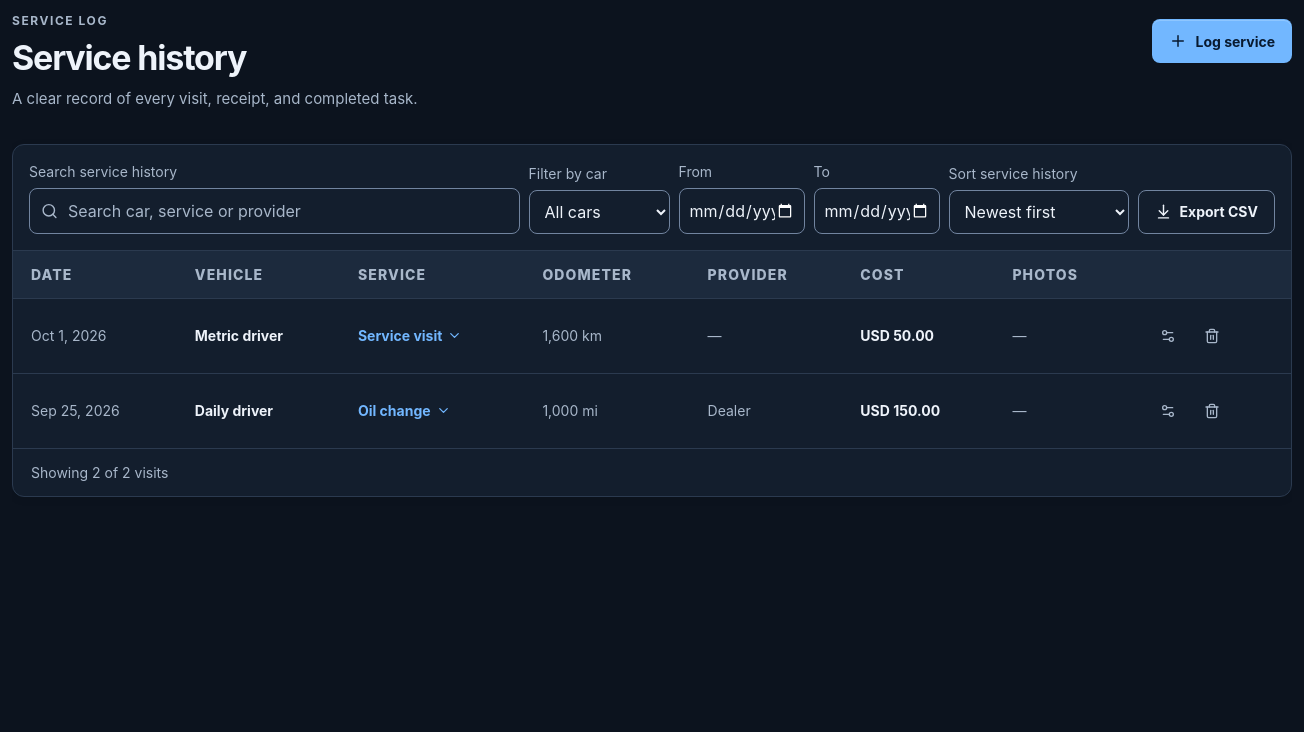
Scenario: uses the same filters for cards, table, counts, and CSV export
Select "Daily driver" in the dropdown labelled "Filter by car" at [599, 212], box [529, 190, 670, 234]
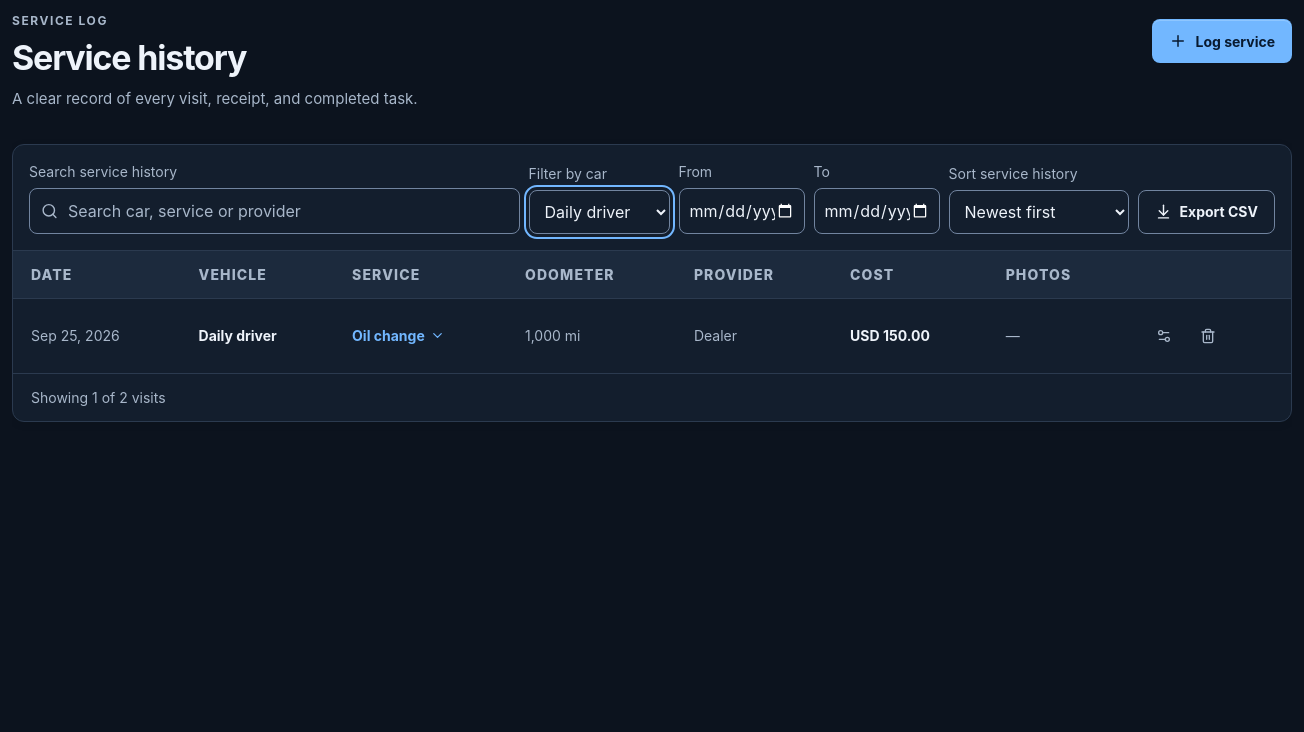
Type "2026-09-01" into the date field labelled "From" at [742, 210], box [679, 188, 805, 234]
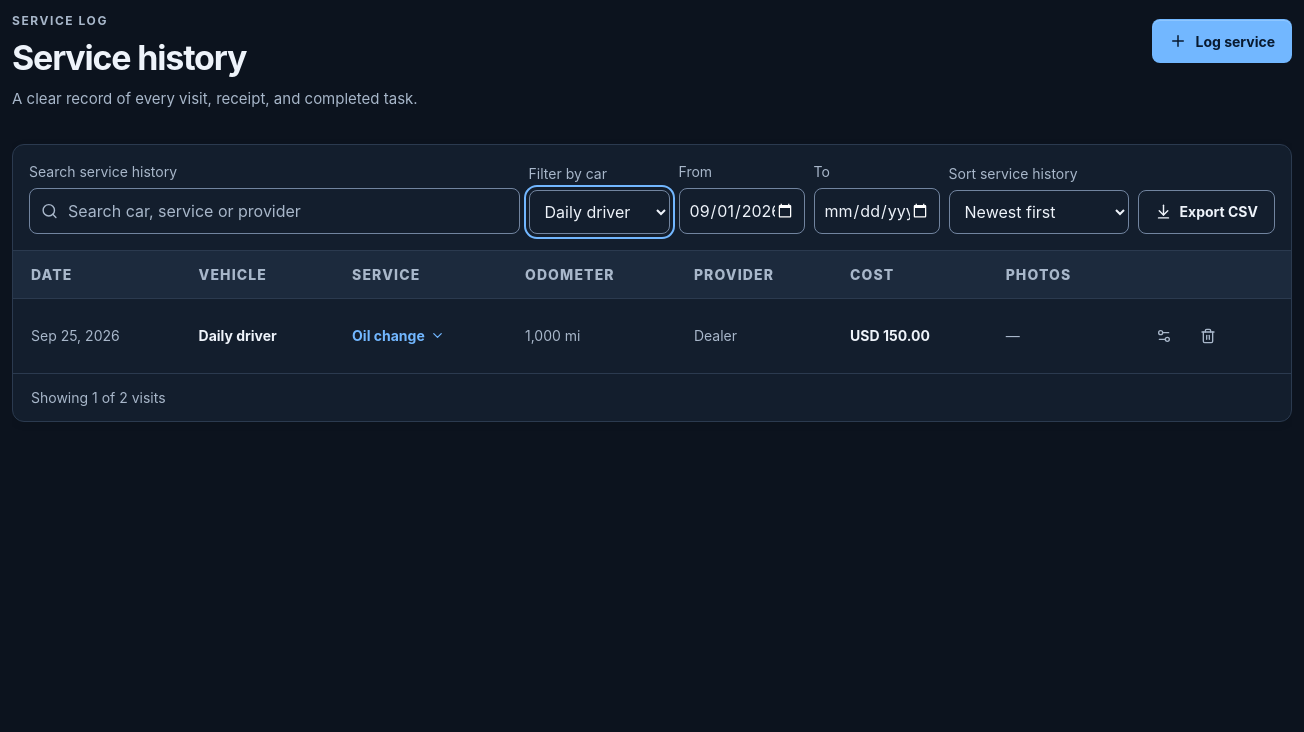
Type "2026-09-30" into the date field labelled "To" at [877, 210], box [814, 188, 940, 234]
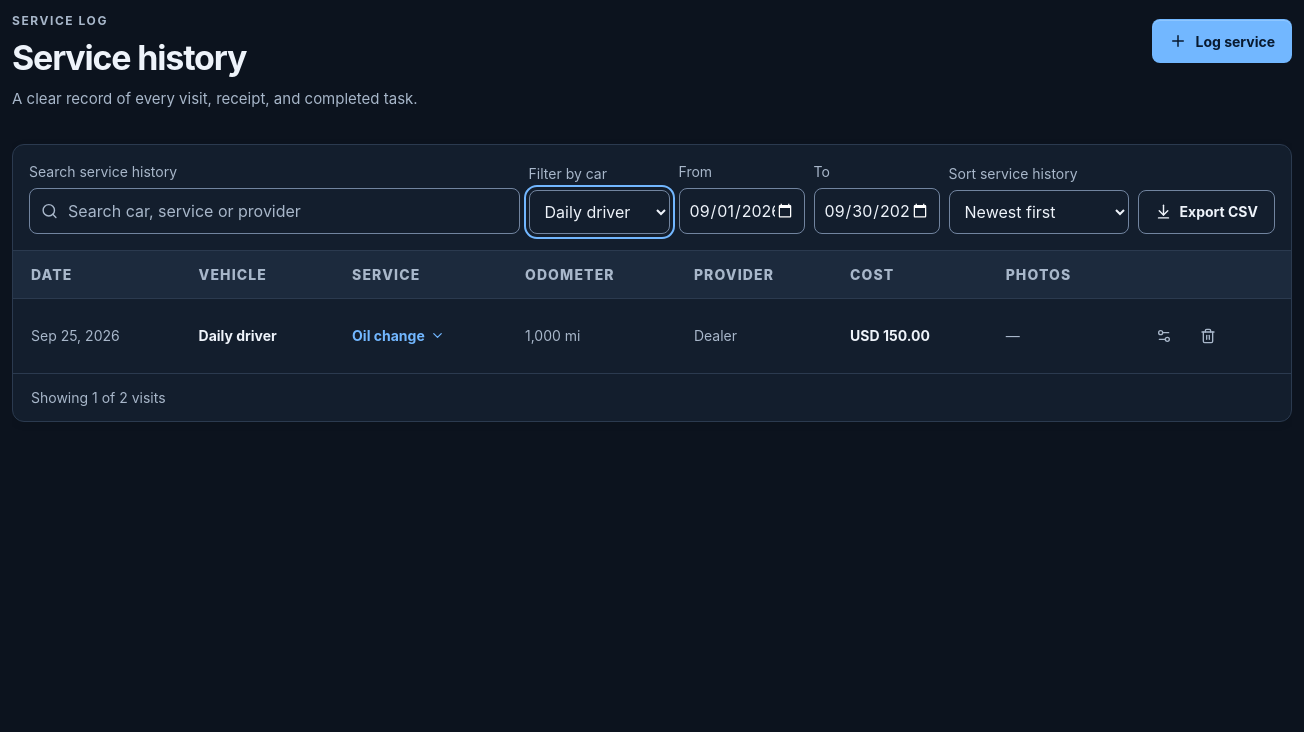
Type "Dealer" into the field labelled "Search service history" at [287, 210], box [66, 188, 508, 232]
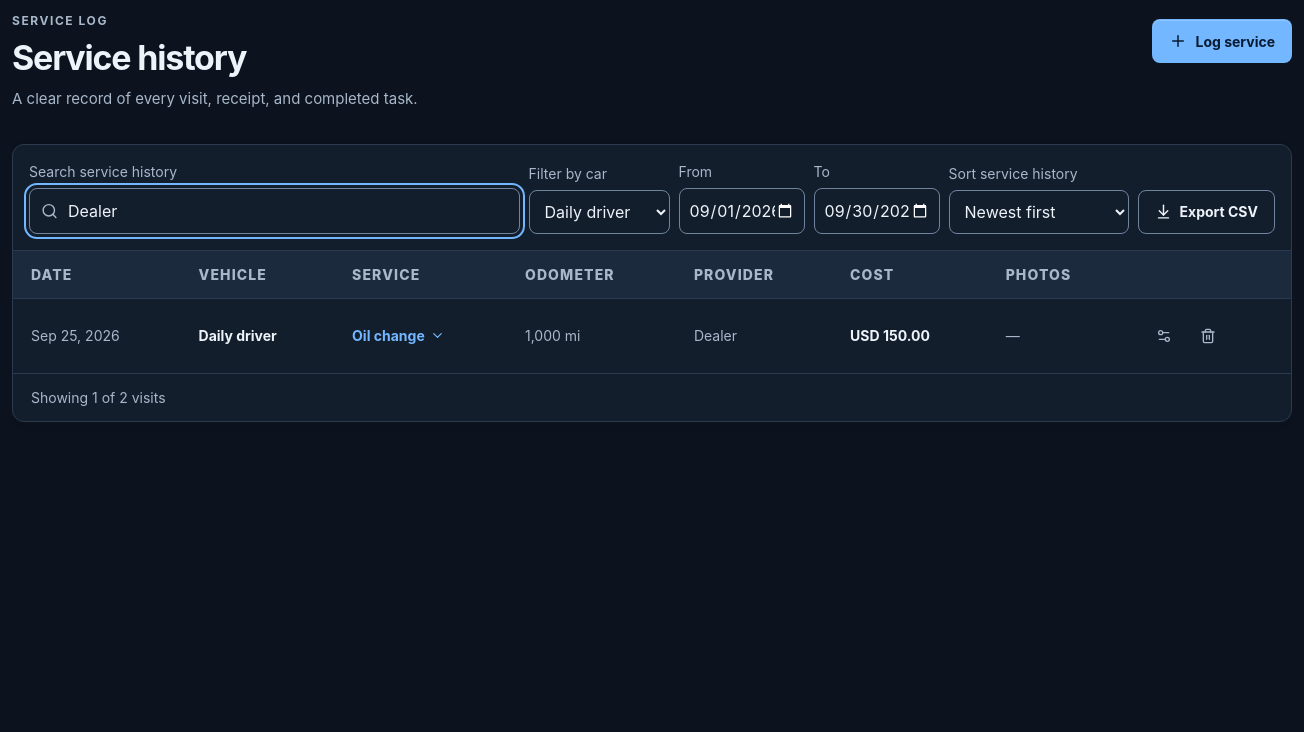
Now the number of rows is 2, box [13, 250, 1291, 298]; [13, 298, 1291, 373]
Now the text "Showing 1 of 2 visits" is shown, box [31, 388, 166, 406]
Click the button "Export CSV" at [1206, 212], box [1138, 190, 1275, 234]
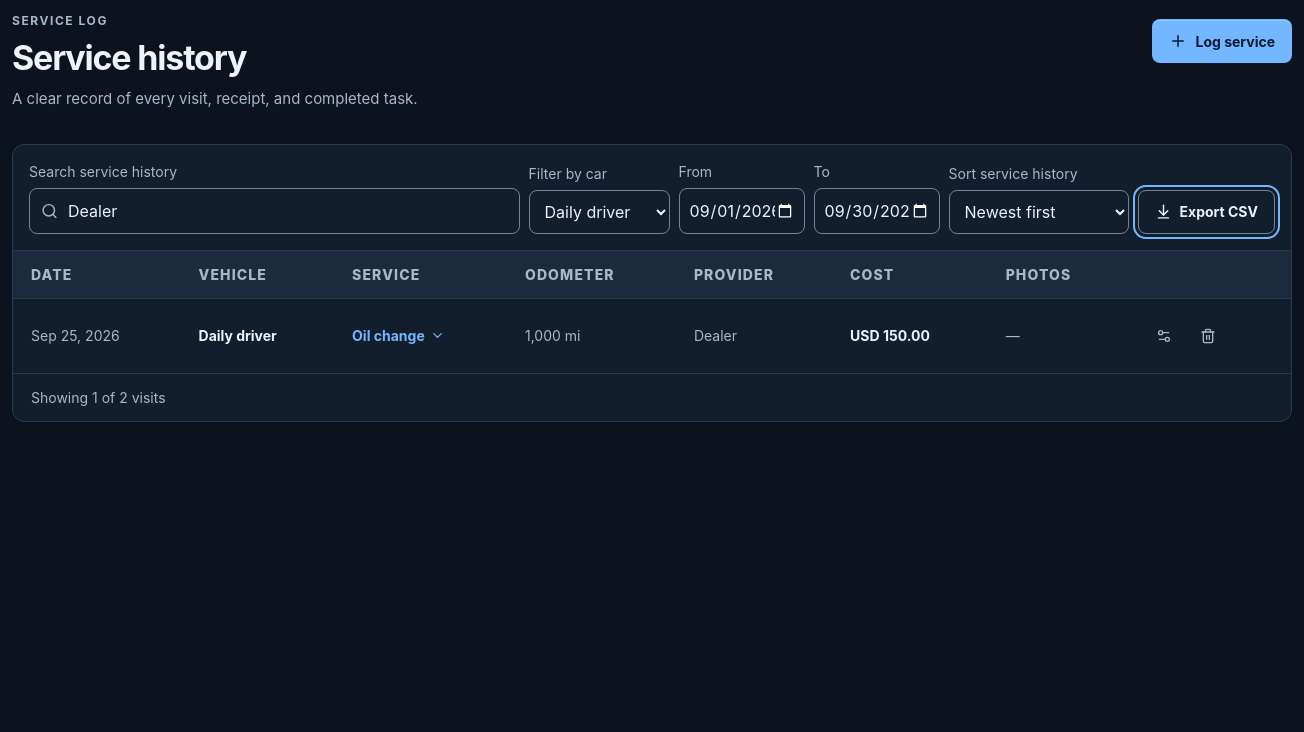
Type "no-match" into the field labelled "Search service history" at [287, 210], box [66, 188, 508, 232]
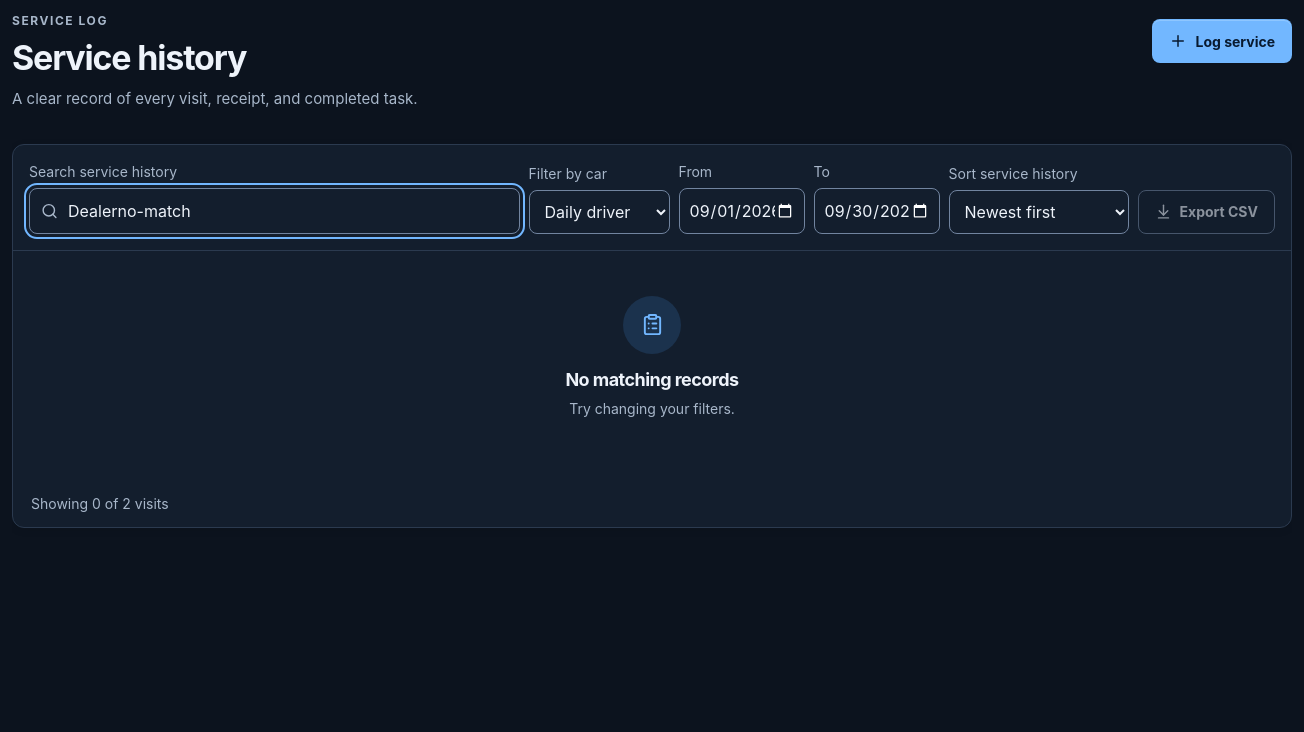
Now the heading "No matching records" is shown, box [565, 366, 738, 392]
Now the button "Export CSV" is disabled, box [1138, 190, 1275, 234]
